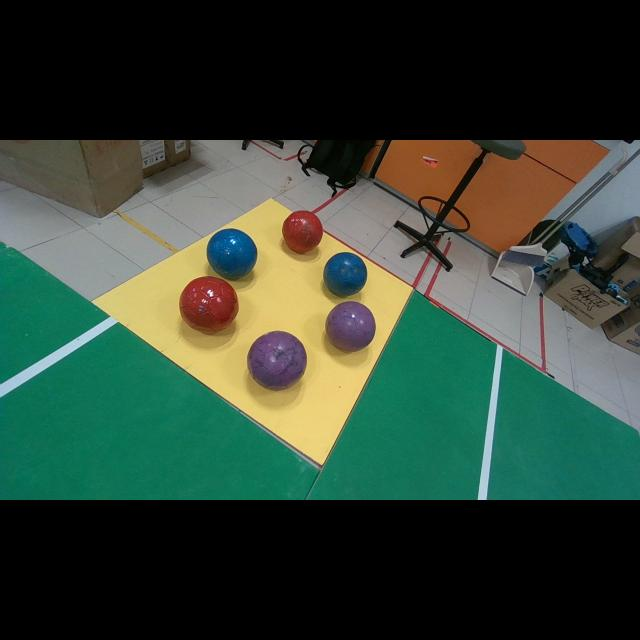B: (206, 229, 258, 279), (324, 252, 368, 296)
P: (248, 331, 308, 390), (326, 301, 376, 352)
R: (179, 276, 239, 334), (282, 210, 322, 253)
